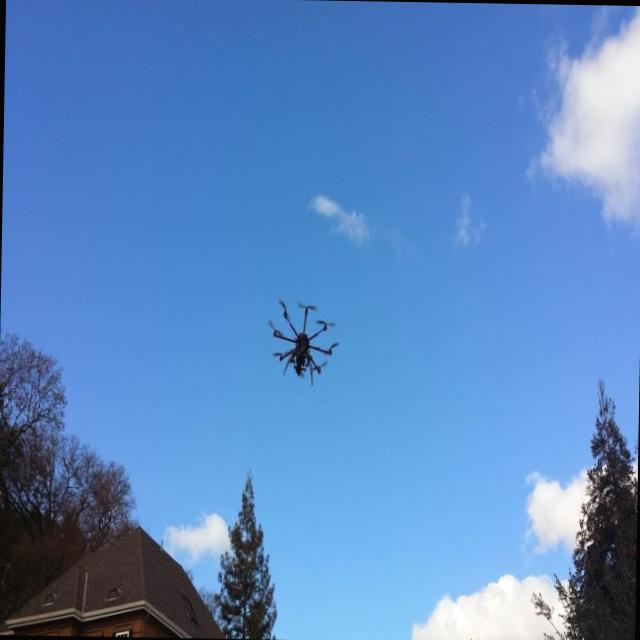drone: (265, 292, 341, 392)
